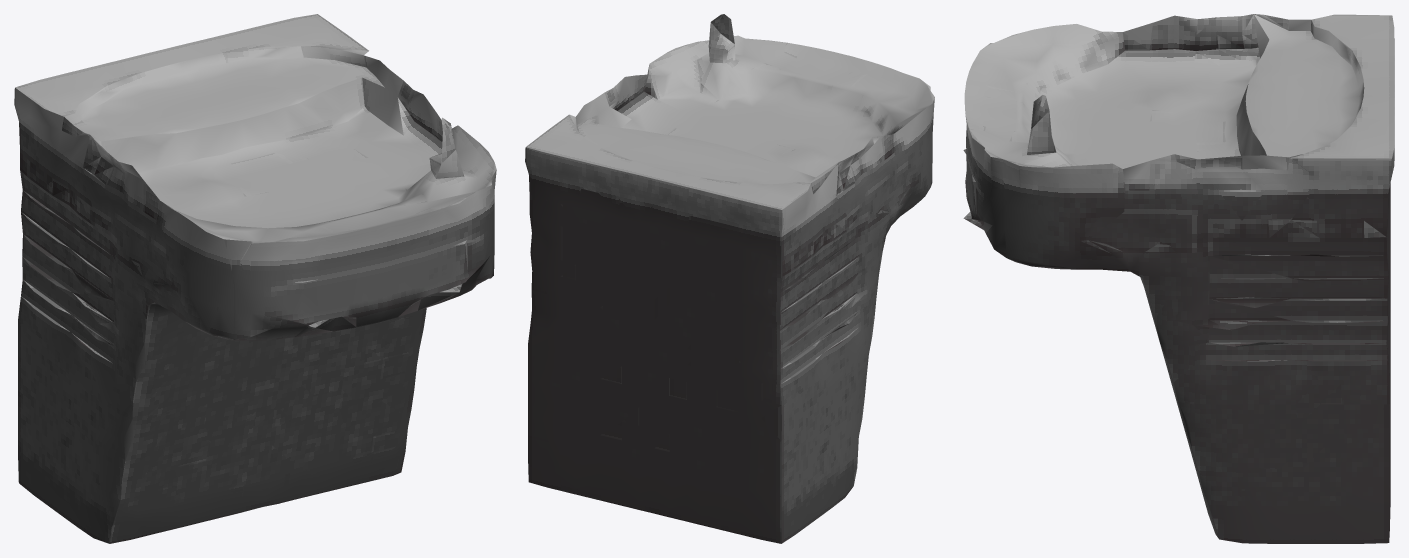
File: drinking_fountain.glb
The picture shows the model from 3 angles, left to right: view 1: azimuth 30°, elevation 25°; view 2: azimuth 150°, elevation 25°; view 3: azimuth 270°, elevation 25°; orthographic projection. The views are drawn at different scales.
Visible parts, largest first — view 1: mesh; view 2: mesh; view 3: mesh.
Part boxes in pixels (x1,y1,x2,y2): mesh: [14, 14, 496, 543]; mesh: [525, 14, 934, 543]; mesh: [963, 14, 1394, 543].
Size of the model in its own units: 0.7118 by 0.975 by 0.8975.
1 material, 1 textured.
